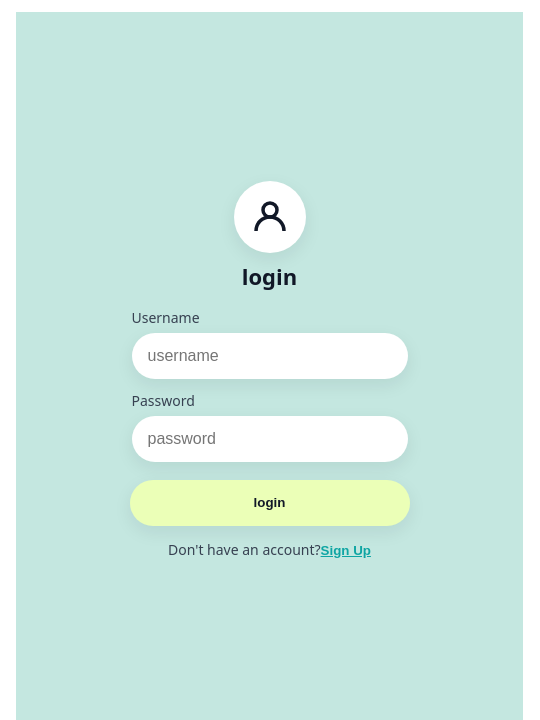
Scenario: Login Component › wrong password shows error
Step 1. Type "admin" into the field labelled "Username" → (270, 356), box top-left (132, 333), bottom-right (408, 379)
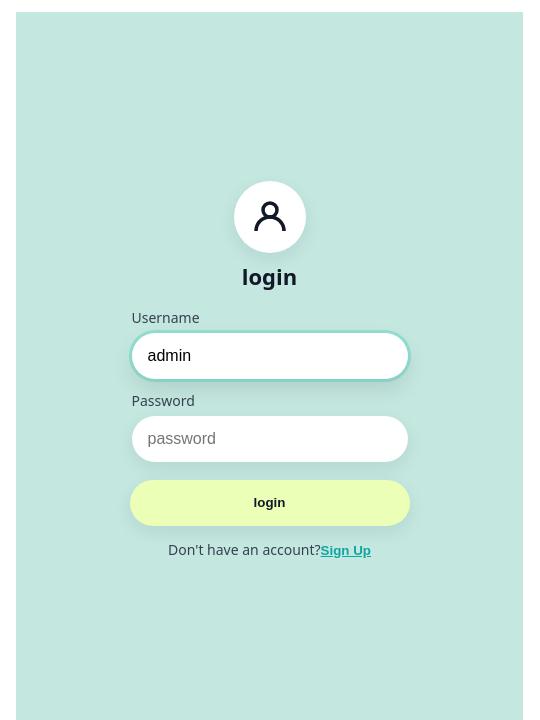
Step 2. Type "wrongpassword" into the password field labelled "Password" → (270, 439), box top-left (132, 416), bottom-right (408, 462)
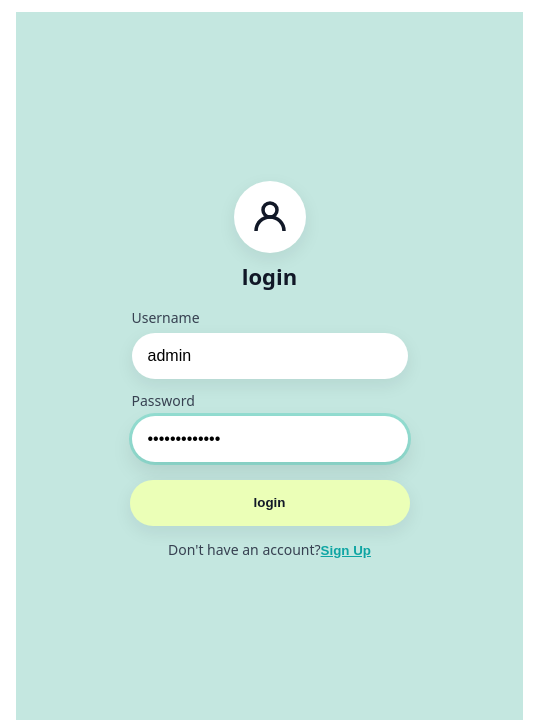
Step 3. Submit the form, box top-left (130, 308), bottom-right (410, 526)
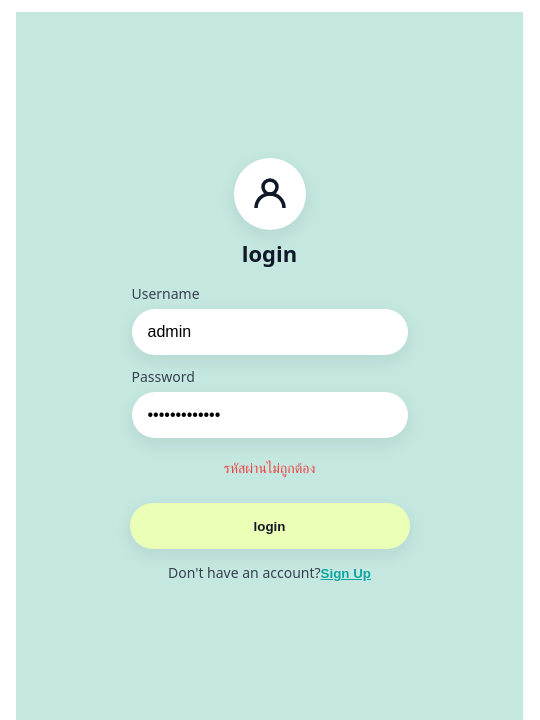
Now the text "รหัสผ่านไม่ถูกต้อง" is shown, box top-left (224, 458), bottom-right (315, 477)
Now the text with test id "login-error" reads "รหัสผ่านไม่ถูกต้อง", box top-left (224, 458), bottom-right (316, 477)
